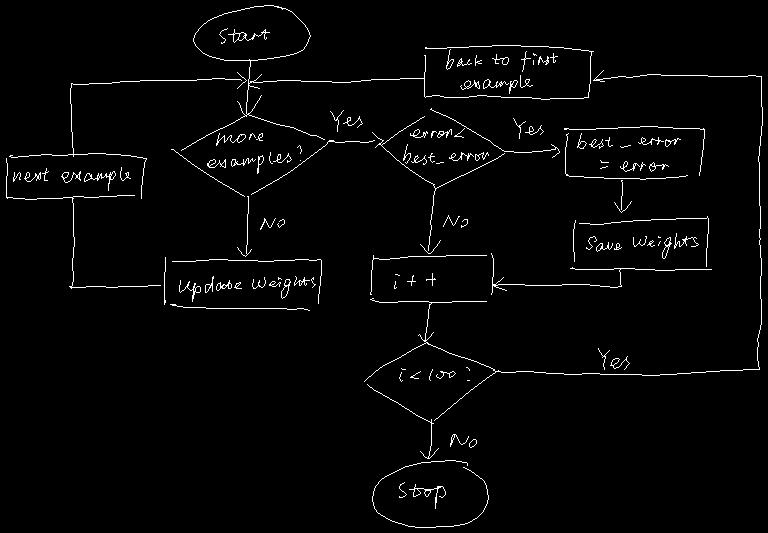arrow: (493, 70, 762, 375), (70, 72, 246, 156), (69, 198, 160, 288), (493, 268, 621, 290), (248, 74, 424, 88), (420, 185, 440, 253), (237, 59, 261, 115), (237, 196, 251, 256), (328, 132, 383, 147), (504, 144, 559, 157), (420, 419, 438, 458), (418, 303, 433, 341), (614, 180, 631, 212)
decision: (171, 114, 333, 196), (364, 342, 498, 423), (379, 108, 504, 188)
process: (424, 45, 593, 99), (164, 257, 321, 310), (570, 216, 711, 270), (564, 126, 704, 179), (6, 153, 146, 199), (370, 253, 493, 302)
terminator: (372, 460, 488, 527), (193, 5, 310, 60)
text: (446, 49, 557, 93), (577, 133, 680, 171), (207, 133, 301, 173), (179, 276, 315, 301), (403, 128, 488, 164), (586, 233, 698, 258), (13, 167, 130, 190), (399, 482, 445, 508), (399, 367, 469, 381), (219, 28, 269, 43), (330, 110, 362, 131), (598, 348, 629, 369), (394, 273, 435, 288), (513, 118, 543, 138), (450, 434, 476, 447), (443, 215, 467, 227), (260, 218, 284, 229)
